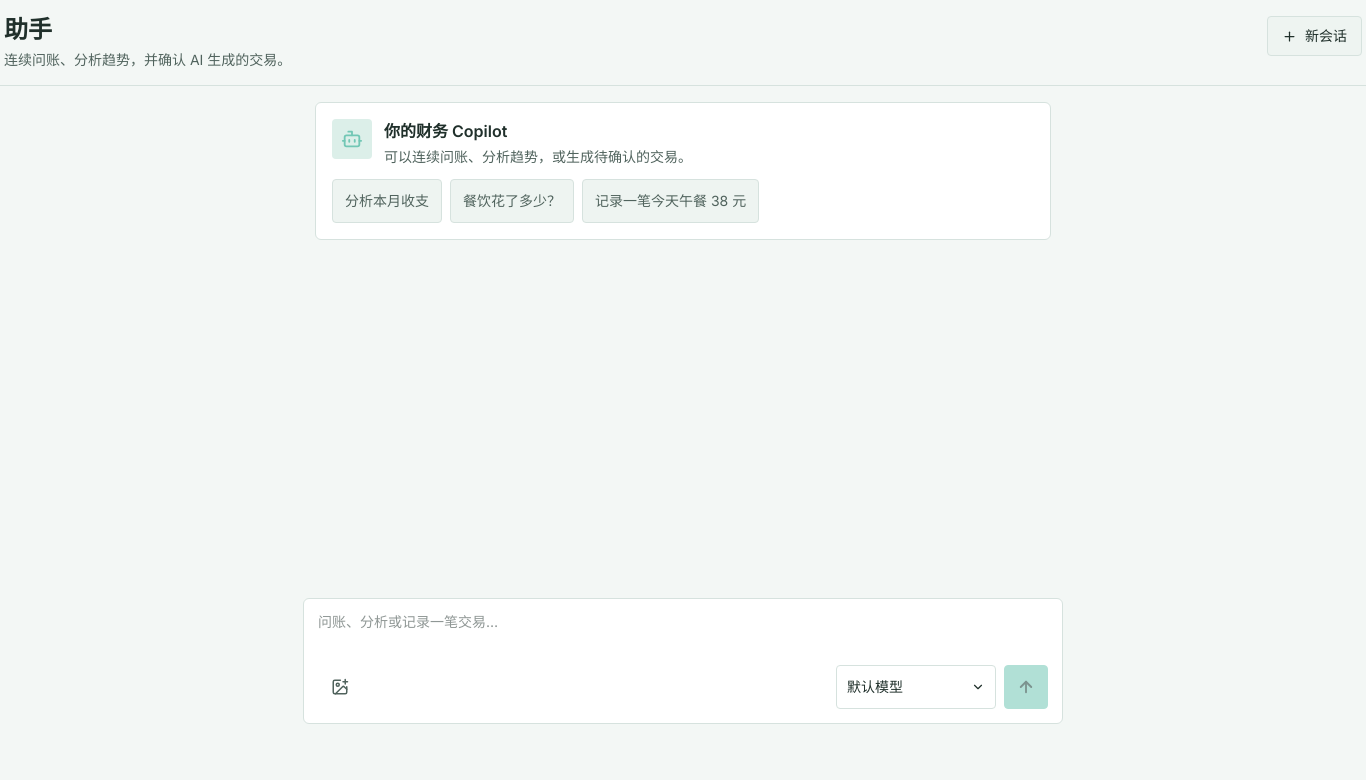
Test: AiHubView › uses the provider default model and keeps model controls in the header flow
Step 1. Click the button with aria-label "切换模型" → (916, 687), box [836,665,996,709]
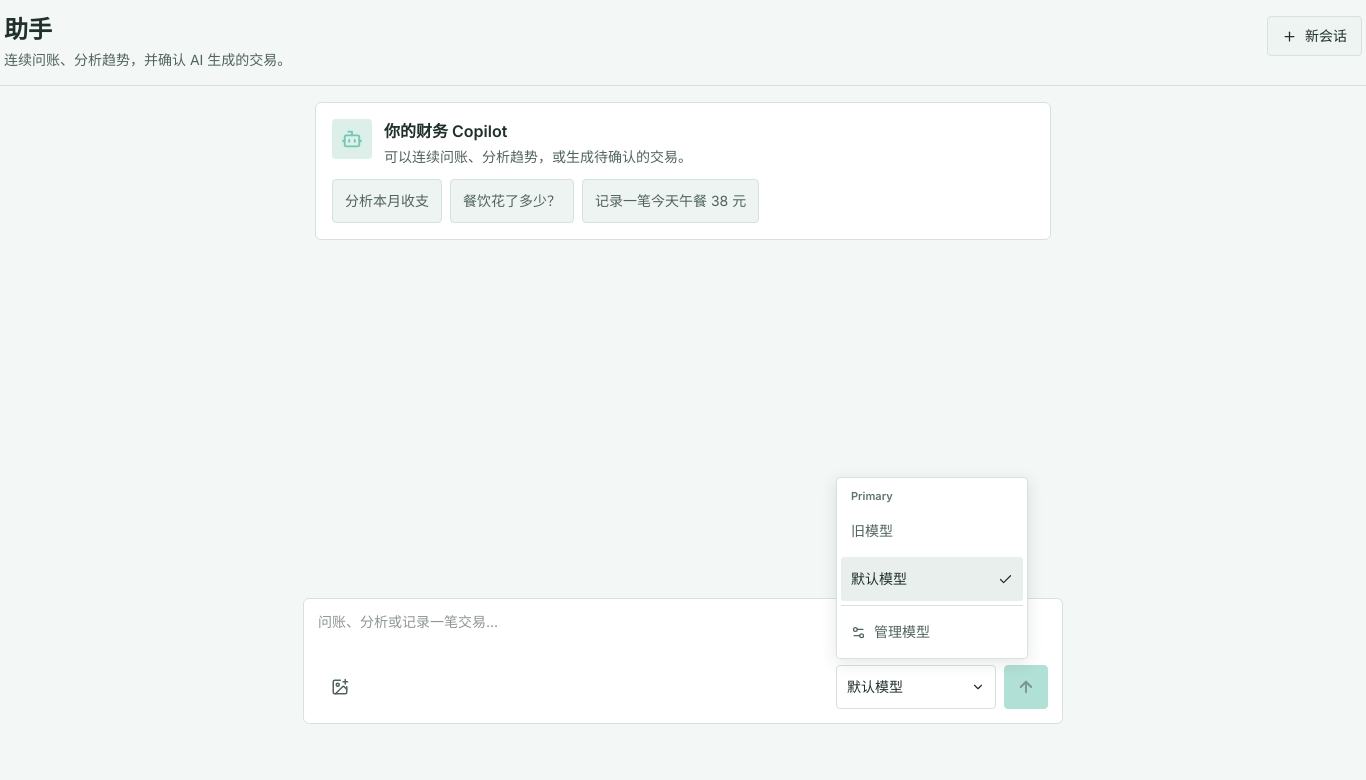
Result: the menu named "模型列表" is shown at [837,478,1027,658]
